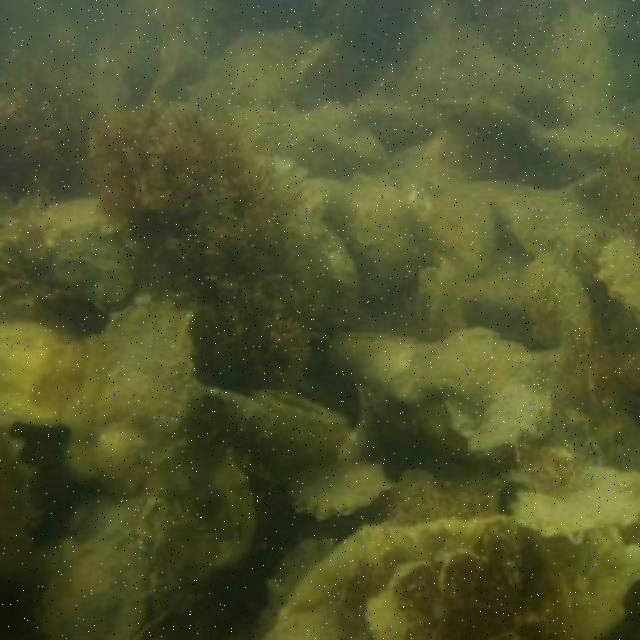Oyster-Closed: (270, 519, 573, 640), (71, 298, 195, 502), (34, 499, 163, 640), (42, 195, 141, 310), (544, 526, 640, 640), (167, 448, 259, 565), (0, 307, 83, 427), (344, 171, 424, 291), (552, 270, 615, 410), (257, 389, 353, 474), (422, 329, 529, 403), (330, 332, 431, 405), (468, 381, 556, 458), (284, 460, 387, 520), (297, 100, 388, 166), (495, 185, 580, 255), (429, 197, 497, 276), (437, 95, 541, 139), (530, 117, 633, 156), (415, 266, 464, 342), (600, 237, 640, 316)
